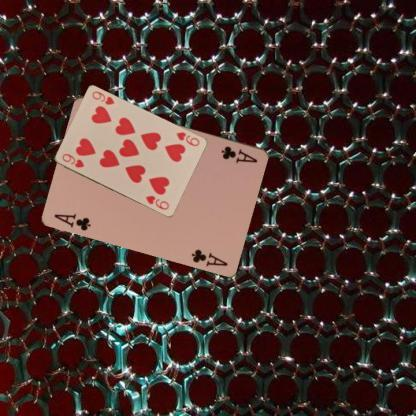9h: (58, 151, 86, 170), (174, 130, 200, 147)
Ac: (52, 210, 92, 233), (219, 143, 259, 164)
